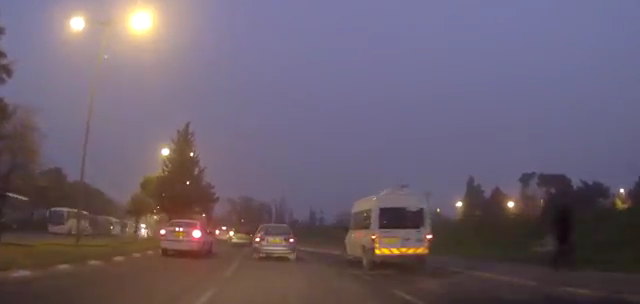bus: (45, 206, 90, 237), (90, 214, 121, 237)
car: (343, 186, 432, 272), (159, 218, 212, 257), (250, 223, 297, 263), (230, 232, 251, 247), (214, 225, 233, 241)
